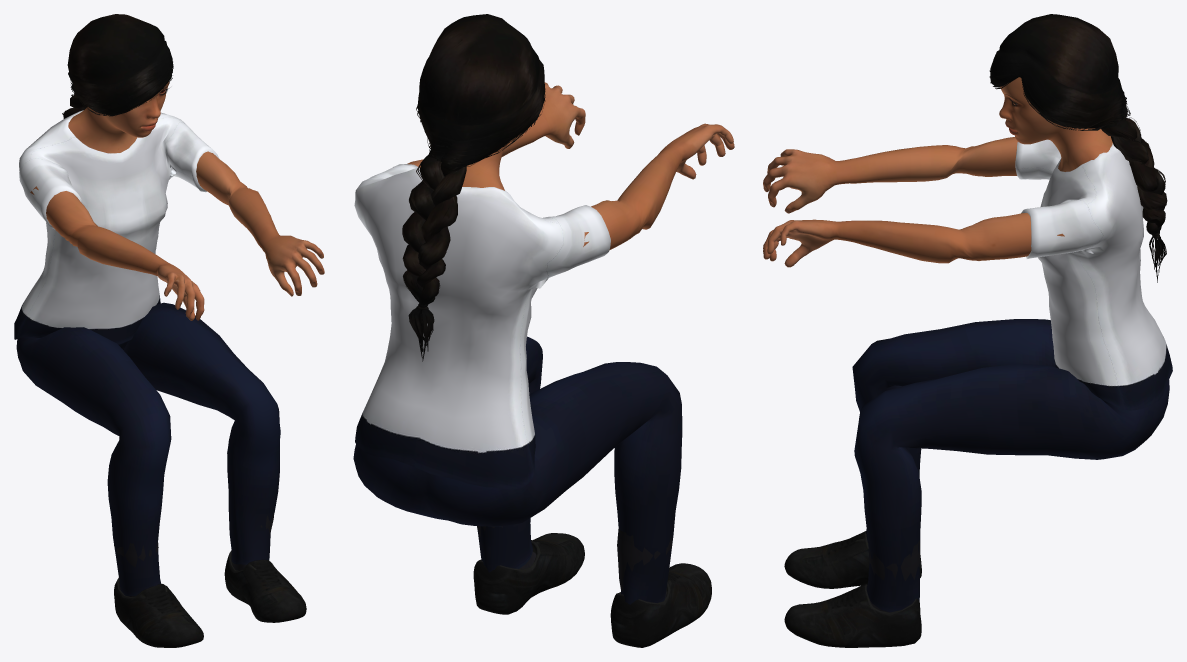
The model's file is g1_sit_talk.glb.
3 views of the same model, side by side, from view 1: azimuth 30°, elevation 25°; view 2: azimuth 150°, elevation 25°; view 3: azimuth 270°, elevation 25° (orthographic). The views are drawn at different scales.
Visible parts, largest first — view 1: g1.female_casualsuit01, g1, g1.braid01, g1.shoes02; view 2: g1.female_casualsuit01, g1.braid01, g1.shoes02, g1; view 3: g1.female_casualsuit01, g1, g1.braid01, g1.shoes02.
Boxes of the visible parts, bbox=[...] form: g1.female_casualsuit01: bbox=[14, 110, 280, 595]; g1: bbox=[30, 82, 324, 320]; g1.braid01: bbox=[62, 14, 173, 118]; g1.shoes02: bbox=[114, 513, 306, 647]; g1.female_casualsuit01: bbox=[353, 164, 682, 604]; g1.braid01: bbox=[402, 14, 545, 361]; g1.shoes02: bbox=[473, 526, 711, 647]; g1: bbox=[407, 82, 734, 250]; g1.female_casualsuit01: bbox=[852, 139, 1172, 612]; g1: bbox=[763, 77, 1112, 267]; g1.braid01: bbox=[989, 14, 1167, 282]; g1.shoes02: bbox=[784, 475, 921, 647].
Bounding box in the file's own units: 0.3962 × 1.12 × 0.6997.
7 materials, 7 textured.
